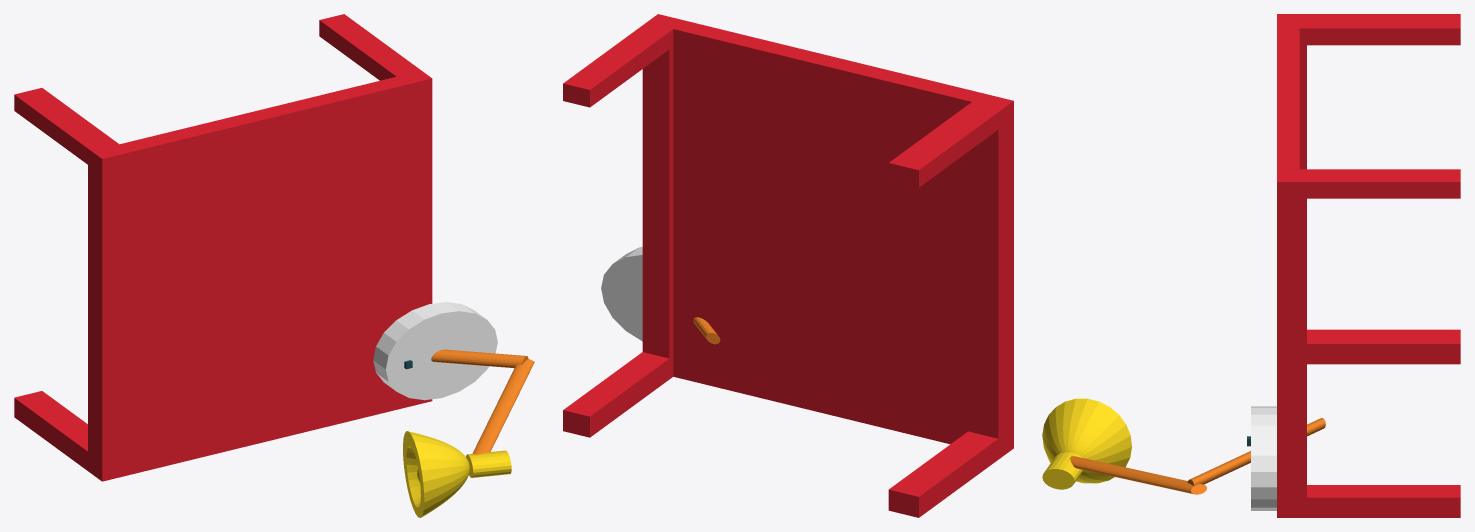
File: tinker.obj
The picture shows the model from 3 angles, left to right: view 1: azimuth 30°, elevation 25°; view 2: azimuth 150°, elevation 25°; view 3: azimuth 270°, elevation 25°; orthographic projection. The views are drawn at different scales.
Visible parts, largest first — view 1: group_0_15277357, group_0_16448250, group_0_16768282, group_0_16089887; view 2: group_0_15277357, group_0_16448250; view 3: group_0_15277357, group_0_16768282, group_0_16448250, group_0_16089887.
Boxes of the visible parts, bbox=[...] form: group_0_15277357: bbox=[14, 14, 432, 481]; group_0_16448250: bbox=[373, 302, 497, 400]; group_0_16768282: bbox=[403, 431, 511, 517]; group_0_16089887: bbox=[431, 349, 534, 454]; group_0_15277357: bbox=[563, 14, 1013, 517]; group_0_16448250: bbox=[601, 247, 642, 341]; group_0_15277357: bbox=[1277, 14, 1460, 517]; group_0_16768282: bbox=[1042, 398, 1131, 489]; group_0_16448250: bbox=[1251, 406, 1276, 510]; group_0_16089887: bbox=[1070, 418, 1325, 494].
Bounding box in the file's own units: 126 × 105 × 112.
